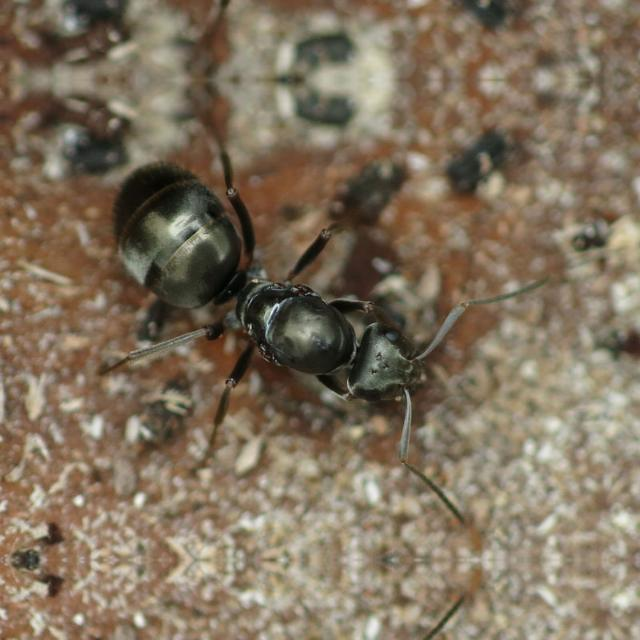Formica: (106, 135, 480, 449)
